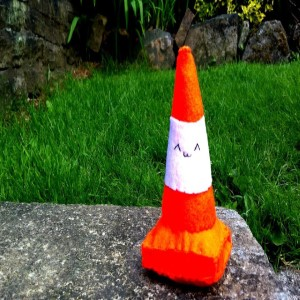traffic cone: (141, 45, 233, 284)
